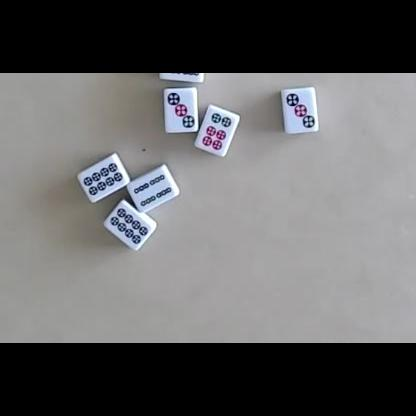3p: (285, 93, 316, 129), (167, 92, 195, 129)
4s: (133, 174, 172, 207), (164, 73, 200, 76)
6p: (202, 113, 231, 150)
8p: (109, 208, 148, 244), (83, 162, 122, 196)
